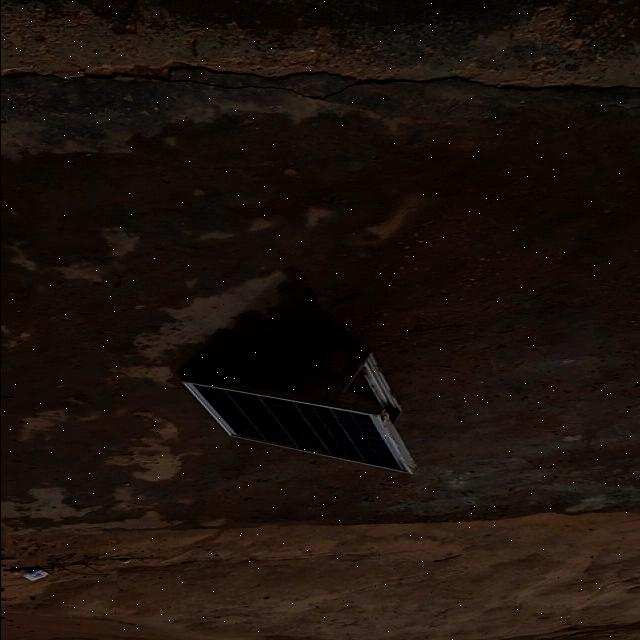Normal Solar Panel: (183, 378, 415, 473)
